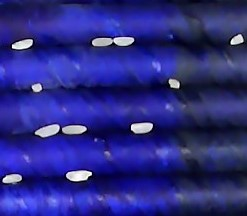broken_grain: (129, 120, 154, 135), (229, 31, 245, 50), (165, 78, 183, 89), (30, 82, 44, 95)
complete_grain: (31, 123, 61, 141), (64, 168, 95, 184), (61, 123, 88, 137), (10, 38, 35, 53), (1, 172, 24, 187), (91, 36, 113, 50), (114, 35, 135, 49)
